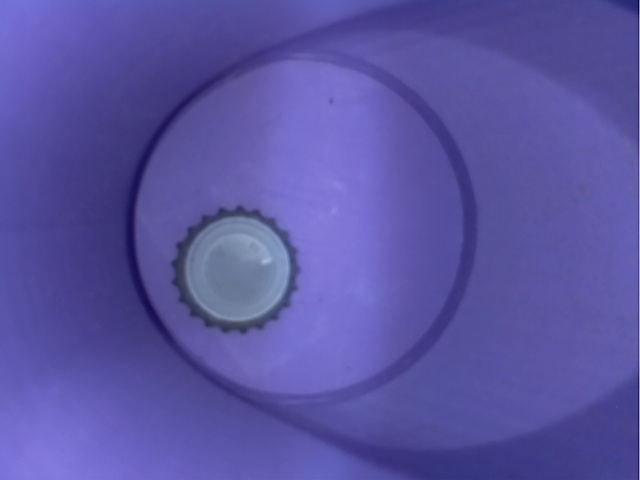capsule: (163, 201, 309, 338)
